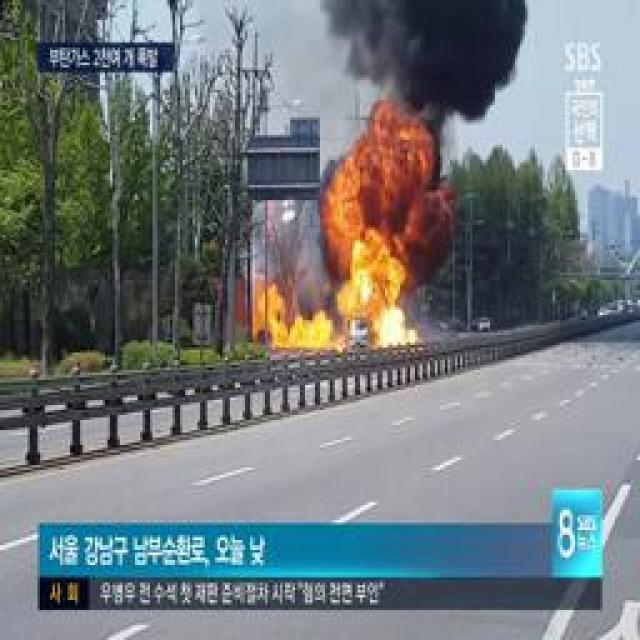Fire: (342, 198, 401, 299), (259, 302, 333, 348), (376, 307, 405, 345)
